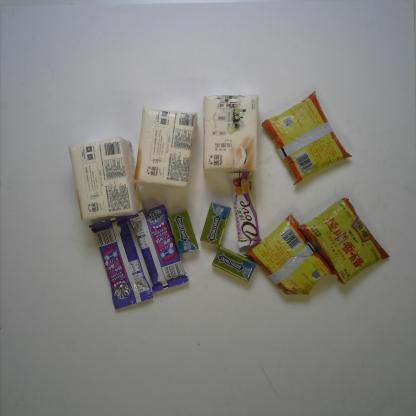Candy: (88, 215, 153, 310), (125, 204, 189, 293)
Chocolate: (227, 170, 262, 251)
Gum: (212, 246, 257, 282), (167, 210, 199, 256), (200, 202, 231, 246)
Seasoner: (261, 88, 354, 188), (296, 197, 391, 287), (241, 212, 337, 298)
Tissue: (67, 135, 145, 222), (132, 106, 200, 192), (202, 93, 258, 175)
